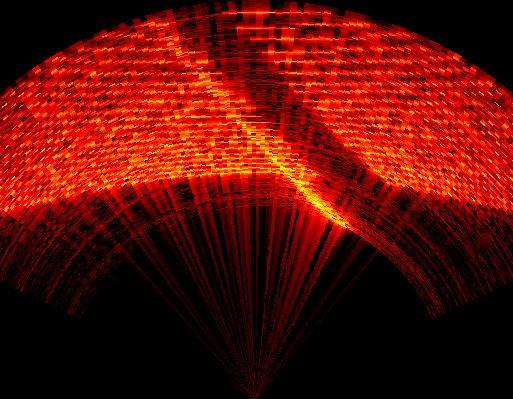pipe: (166, 2, 389, 225)
